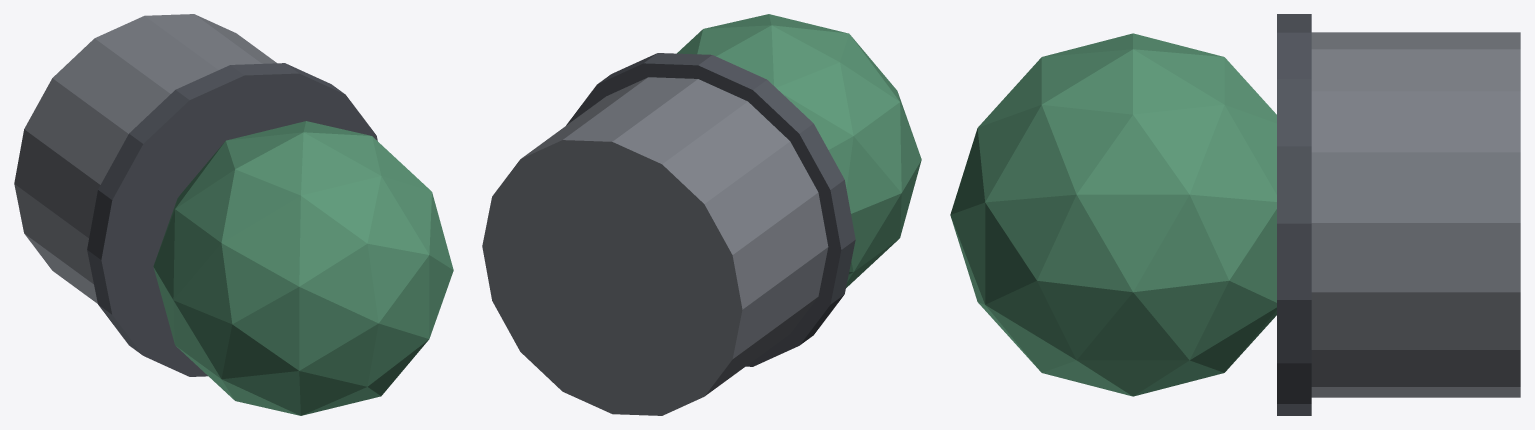
Rendered from planter_v02.glb.
The picture shows the model from 3 angles, left to right: view 1: azimuth 30°, elevation 25°; view 2: azimuth 150°, elevation 25°; view 3: azimuth 270°, elevation 25°; orthographic projection. The views are drawn at different scales.
Parts seen in each view (by area): view 1: sphere_2, cylinder_1, cylinder_0; view 2: cylinder_0, sphere_2, cylinder_1; view 3: sphere_2, cylinder_0, cylinder_1.
Part boxes in pixels (x1,y1,x2,y2): sphere_2: (153,121,453,415); cylinder_1: (87,63,377,376); cylinder_0: (14,14,276,303); cylinder_0: (482,77,828,415); sphere_2: (677,14,921,287); cylinder_1: (566,53,855,366); sphere_2: (950,33,1276,396); cylinder_0: (1311,32,1520,397); cylinder_1: (1277,14,1311,415).
Size of the model in its own units: 0.924 by 0.924 by 1.31.
